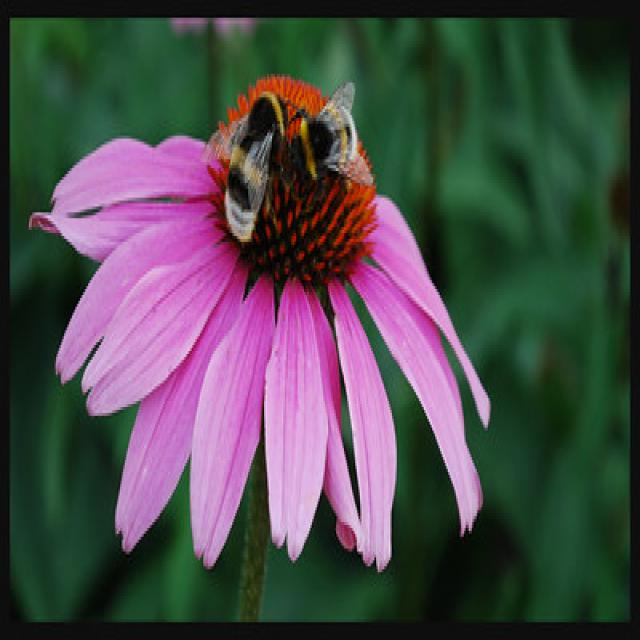Abeille: (220, 74, 290, 237), (279, 83, 377, 196)
